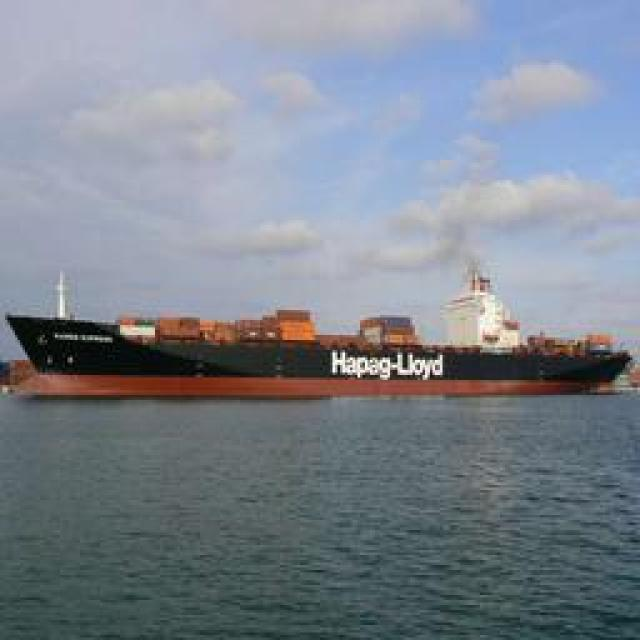ship2: (5, 260, 635, 400)
